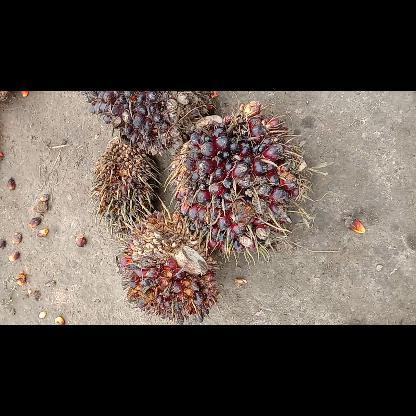Kurang masak: (178, 102, 310, 258), (77, 91, 214, 153)
TBS abnormal: (92, 140, 160, 226)
TBS masak: (122, 214, 218, 324)
